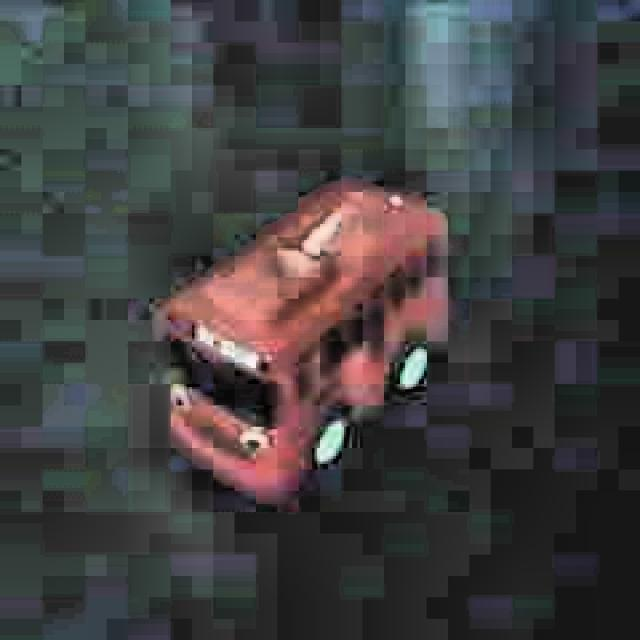bus: (140, 160, 466, 516)
